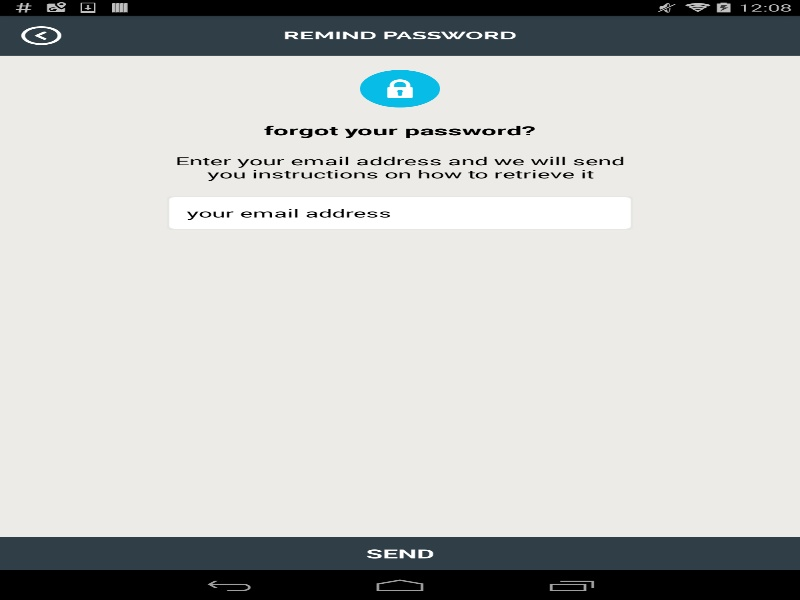Button: (0, 536, 800, 570), (21, 15, 92, 55)
Input: (166, 195, 633, 230)
